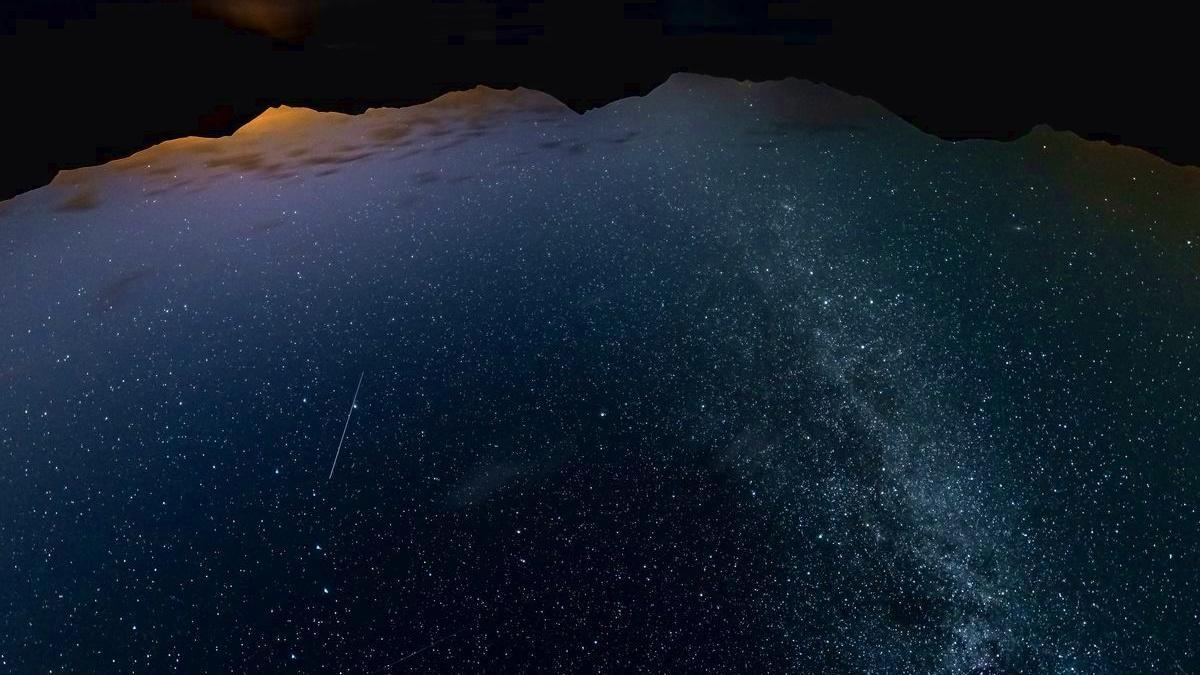meteorite: (312, 369, 382, 473)
